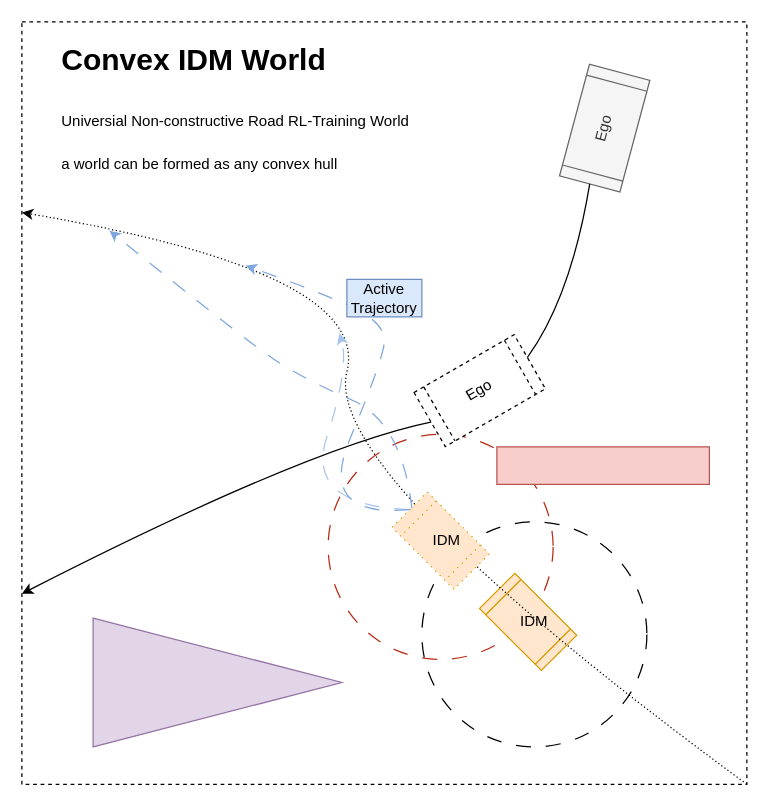
Image size: 770x806. Some labels were removed from this diagram. The shapes that lost their labels are listed below. From the top down, each one's box as (x1, y1, x2, y2) in pixels, then its label:
(496, 446, 709, 484): Minimum Active Zone
(92, 617, 342, 747): Prohibited Area
